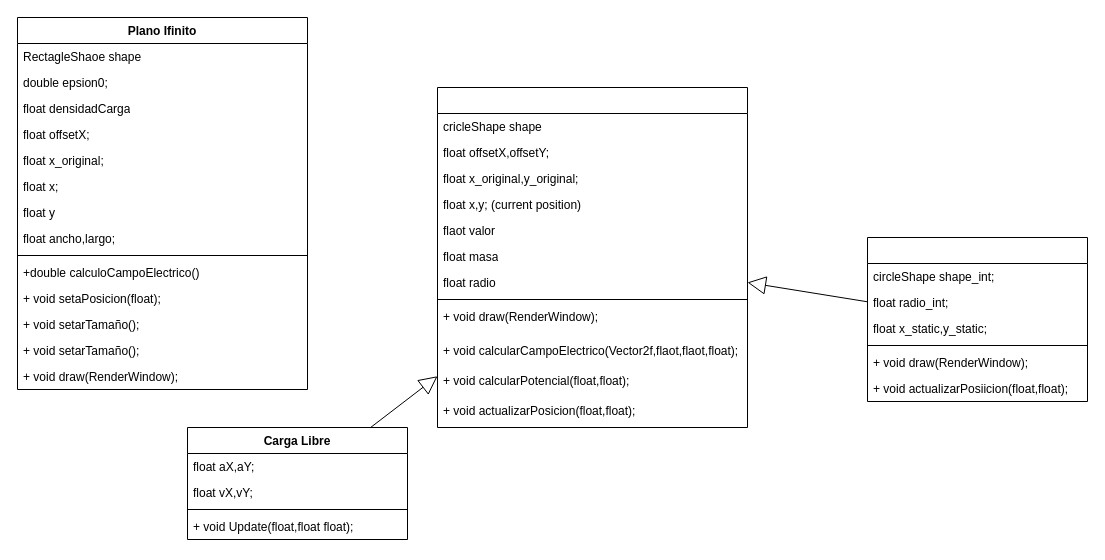
Image size: 1105x560. Some labels were removed from this diagram. Each missing label, with the box of its shape:
Carga: (436, 86, 748, 428)
CargaEsferica: (866, 236, 1088, 402)
